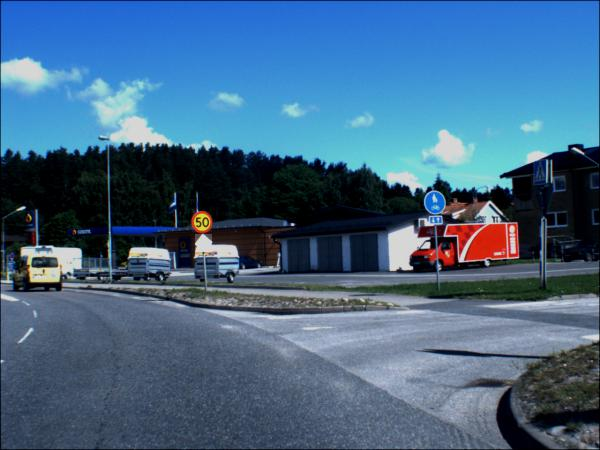50_SIGN: (193, 212, 214, 234)
PEDESTRIAN_CROSSING: (534, 160, 551, 187)
PRIORITY_ROAD: (196, 235, 214, 254)
